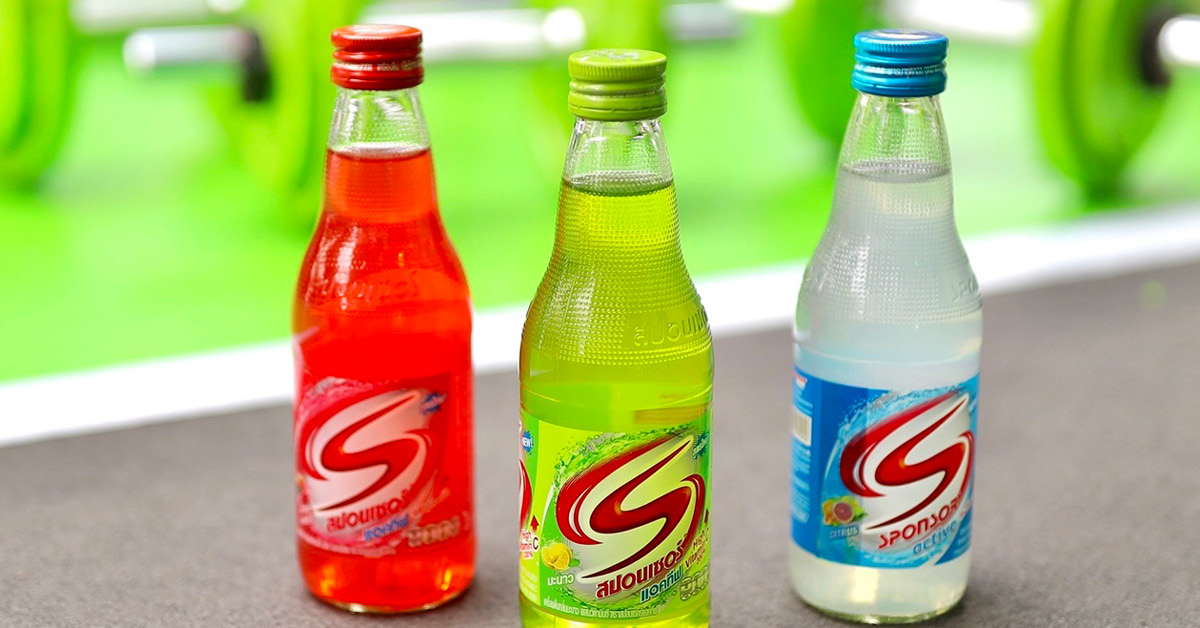glass_bottle: (777, 18, 998, 628), (509, 41, 723, 628), (282, 12, 489, 618)
